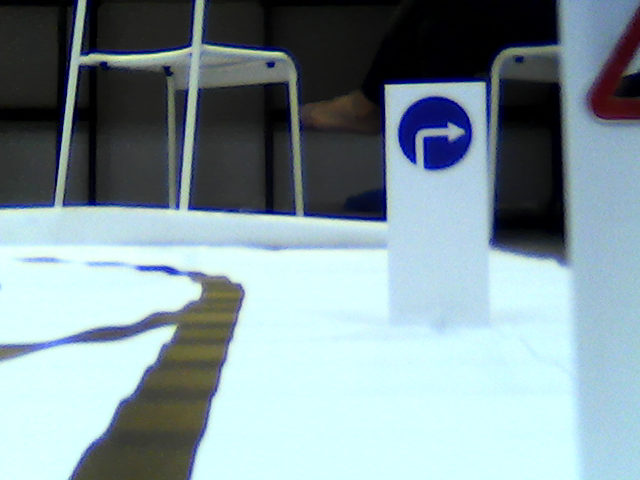Right: (398, 95, 474, 168)
